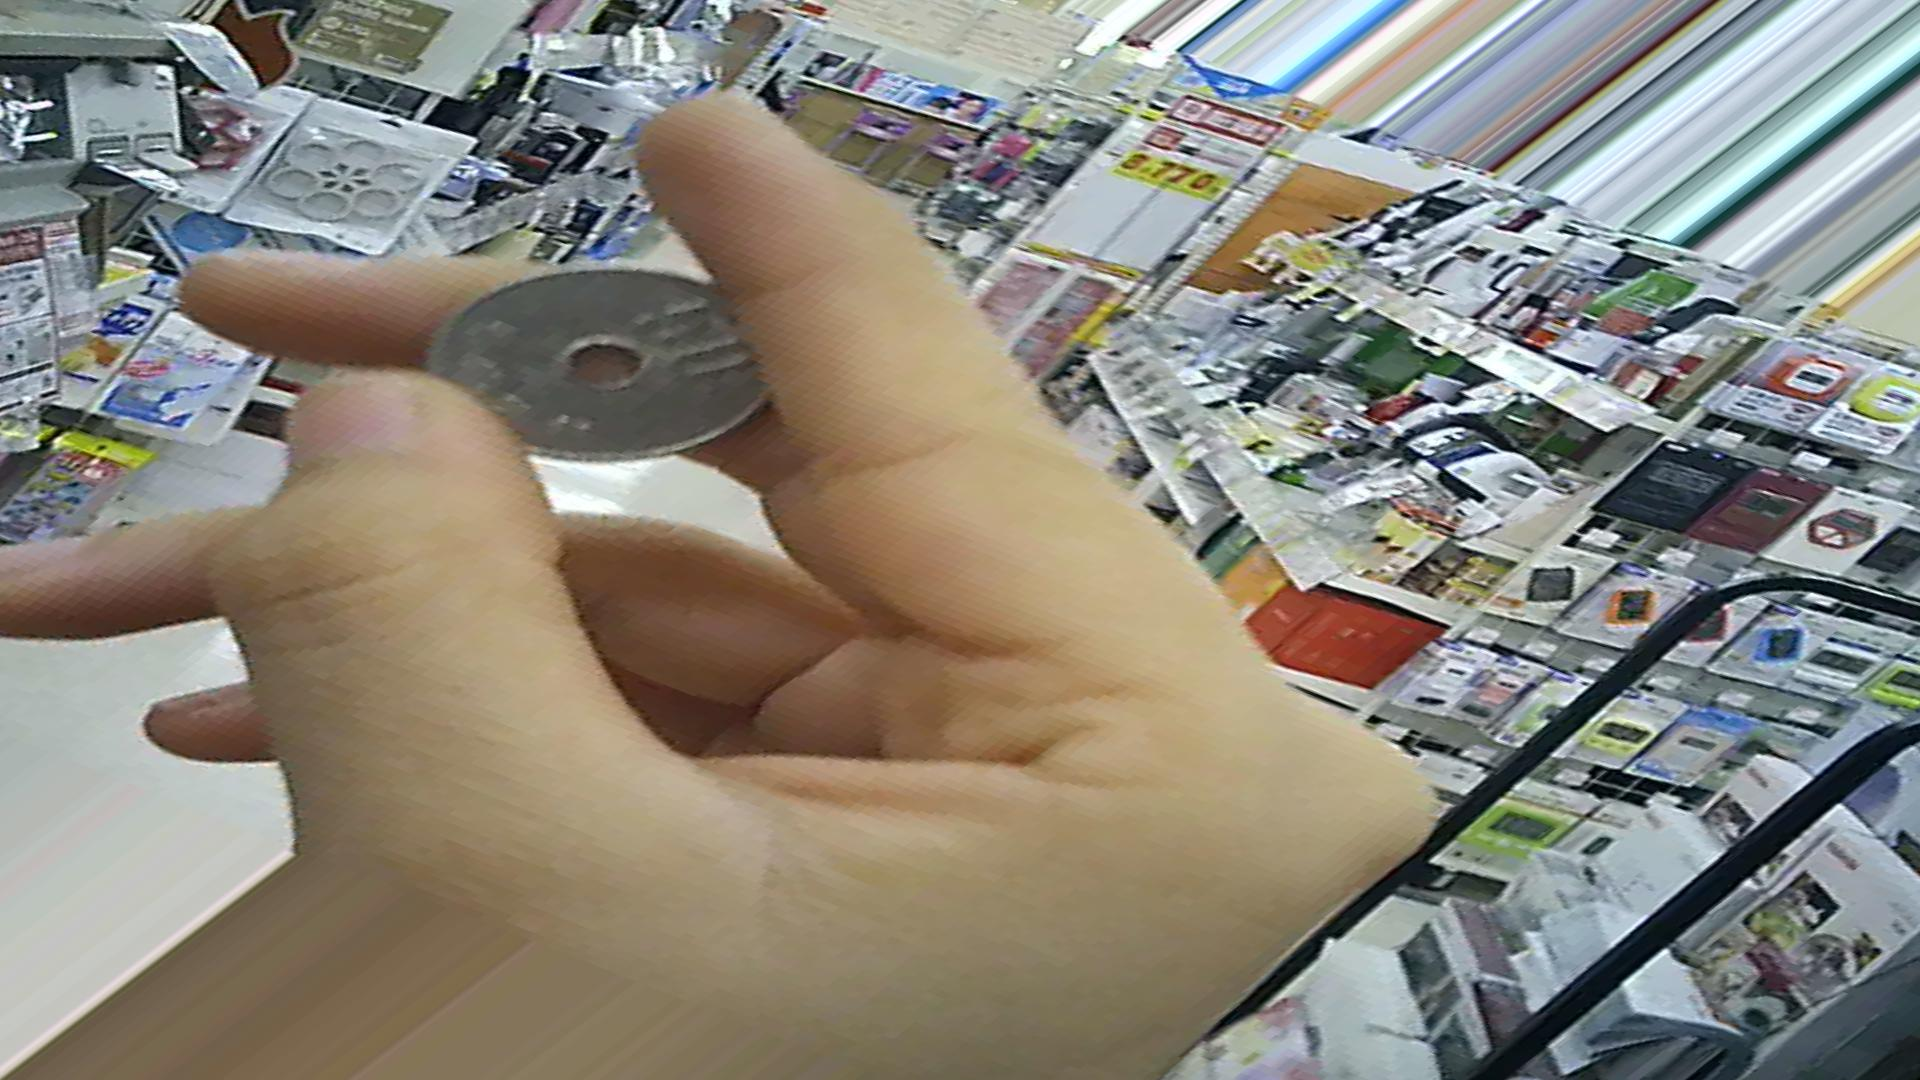50 Yen: (425, 260, 774, 456)
